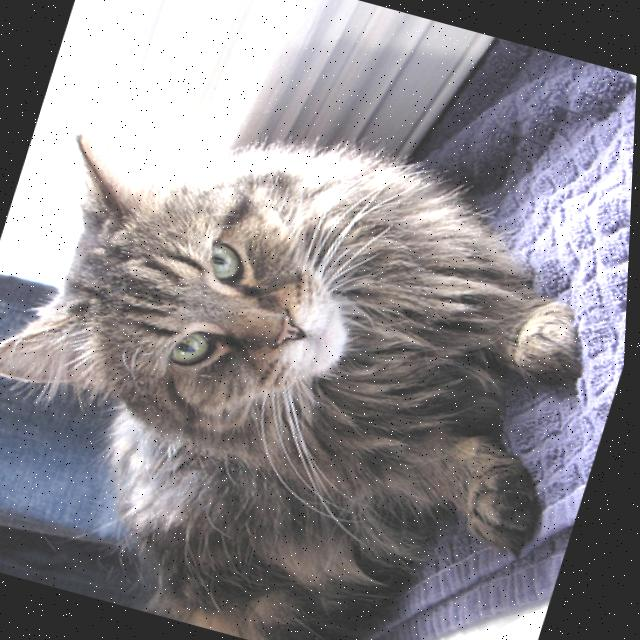Maine Coon: (0, 66, 638, 640)
